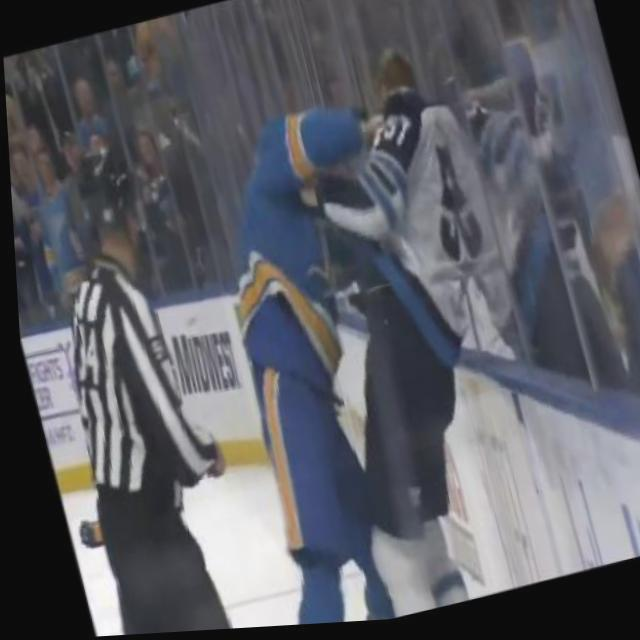fight: (171, 45, 549, 632)
